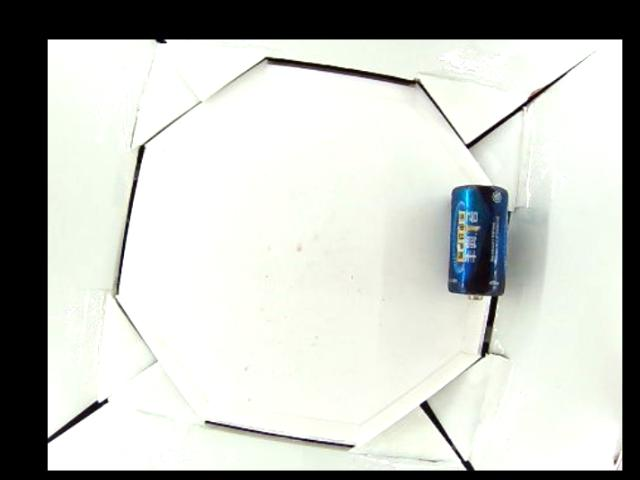Battery: (449, 184, 506, 303)
